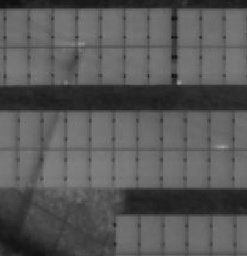solar: (138, 213, 167, 256), (161, 213, 190, 256), (185, 213, 214, 256), (210, 213, 239, 256), (122, 6, 151, 48), (146, 6, 175, 48), (174, 6, 203, 48), (198, 6, 227, 48), (198, 45, 227, 87), (173, 45, 202, 87), (144, 45, 173, 87), (121, 45, 150, 87), (98, 45, 127, 87), (74, 45, 103, 87), (51, 45, 80, 87), (27, 45, 56, 87), (1, 45, 30, 87), (16, 108, 45, 150), (40, 108, 69, 150), (63, 108, 92, 150), (87, 108, 116, 150), (111, 108, 140, 150), (135, 108, 164, 150), (158, 108, 187, 150), (183, 108, 212, 150), (207, 108, 236, 150), (15, 147, 44, 189), (40, 147, 69, 189), (64, 147, 93, 189), (87, 147, 116, 189), (111, 147, 140, 189), (135, 147, 164, 189), (159, 147, 188, 189), (183, 147, 212, 189), (206, 147, 235, 189), (112, 213, 141, 255), (2, 7, 31, 48), (26, 7, 55, 48), (51, 7, 80, 48), (75, 7, 104, 48), (98, 7, 127, 48)
